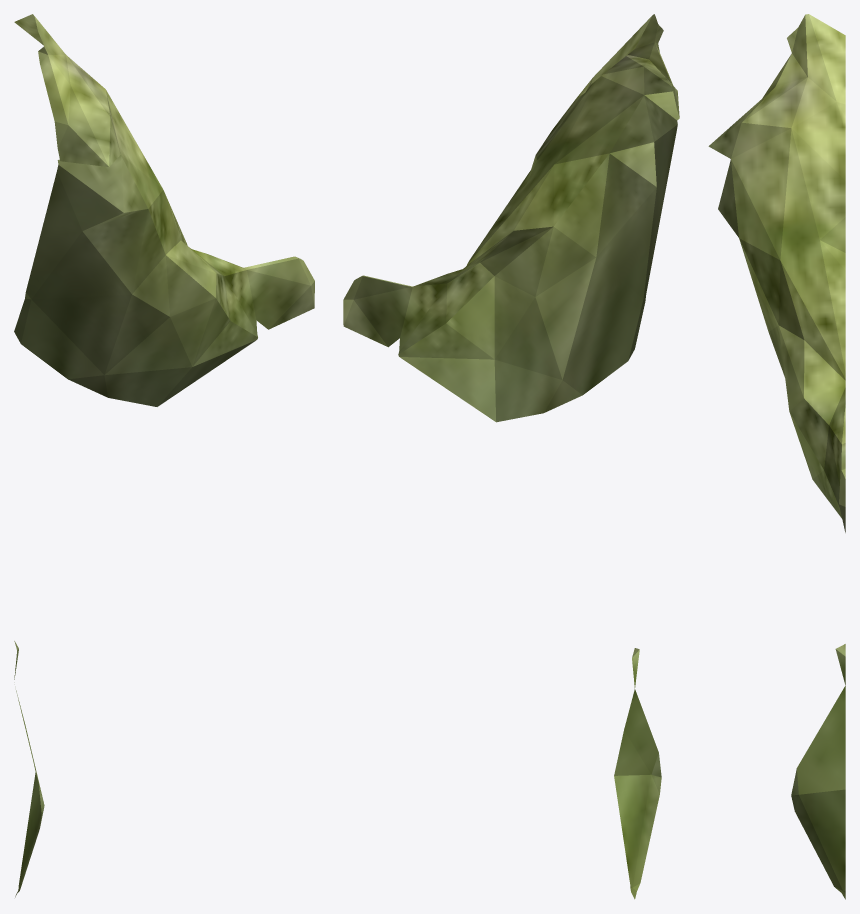
The picture shows the model from 3 angles, left to right: view 1: azimuth 30°, elevation 25°; view 2: azimuth 150°, elevation 25°; view 3: azimuth 270°, elevation 25°; orthographic projection. The views are drawn at different scales.
Size of the model in its own units: 0.709 by 2.03 by 0.2844.
Materials: 1 (1 with a texture image).
